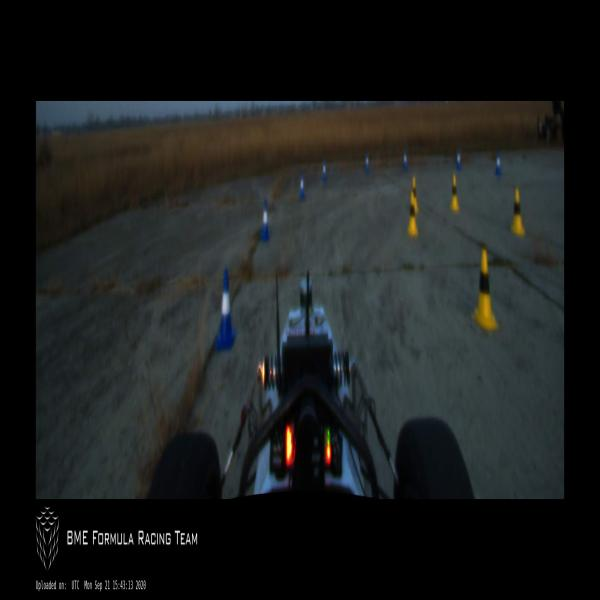blue_cone: (214, 270, 235, 352), (261, 199, 270, 241), (298, 173, 305, 202), (495, 153, 502, 176), (322, 160, 328, 183), (403, 150, 408, 170), (457, 148, 461, 169), (366, 153, 370, 173)
yellow_cone: (473, 249, 498, 329), (511, 189, 526, 234), (409, 192, 418, 235), (450, 175, 459, 210), (411, 176, 418, 212)
